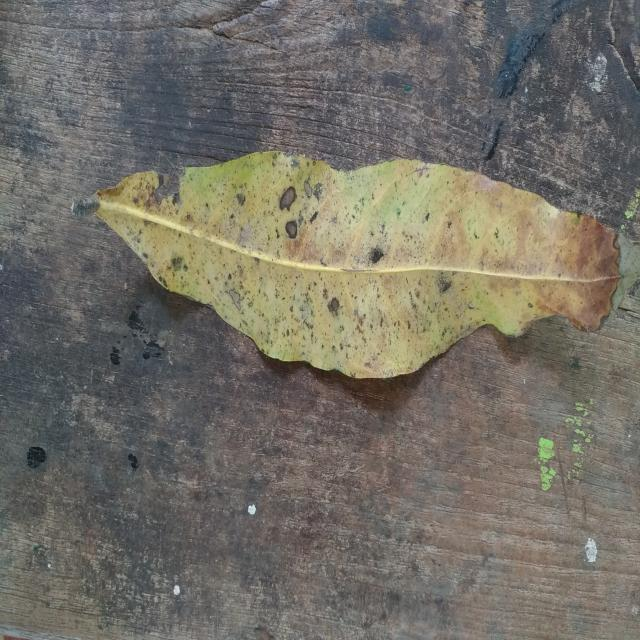defectedseethaashoka: (71, 151, 640, 378)
